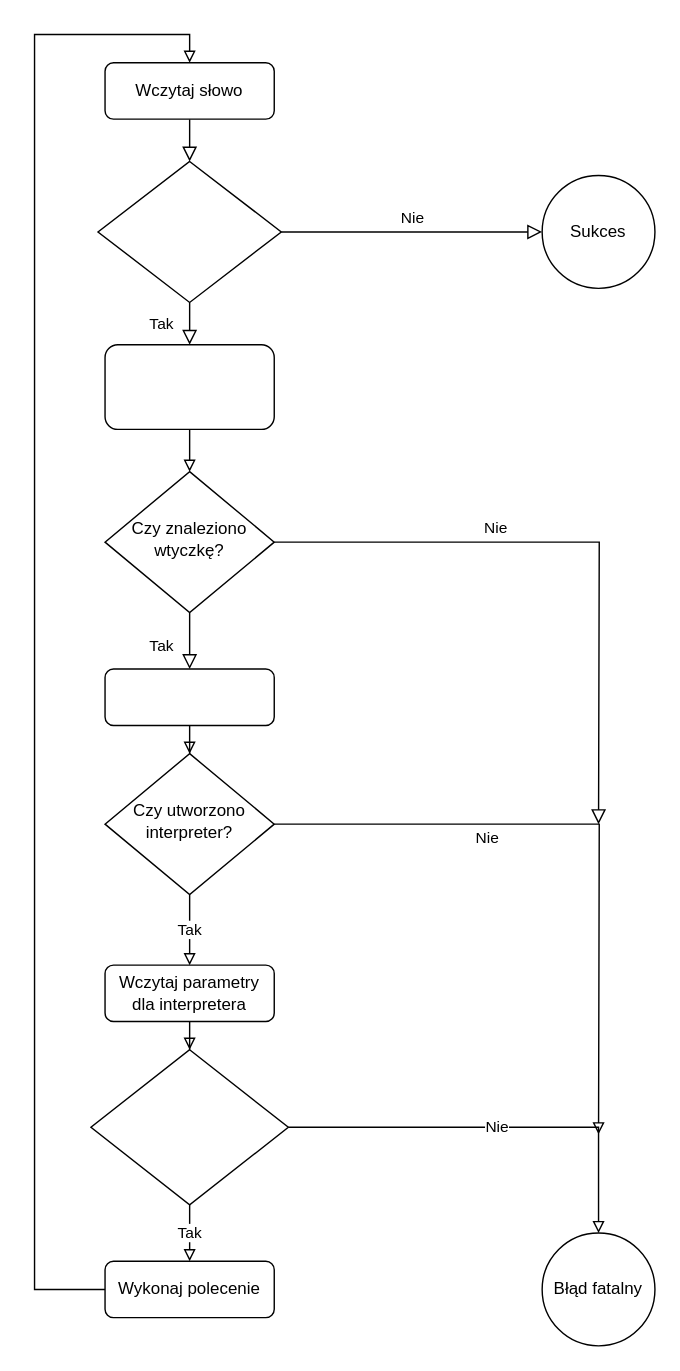
Image size: 680x1371. Some labels were removed from this diagram. Here are the shapes that lost their labels. From the top down, the box of each, then its label:
(97, 160, 281, 302): Czy wczytanie powiodło się?
(104, 343, 274, 429): Znajdź wtyczkę
(104, 668, 274, 725): Utwórz interpreter dla polecenia
(90, 1048, 288, 1205): Czy poprawnie wczytano parametry?
